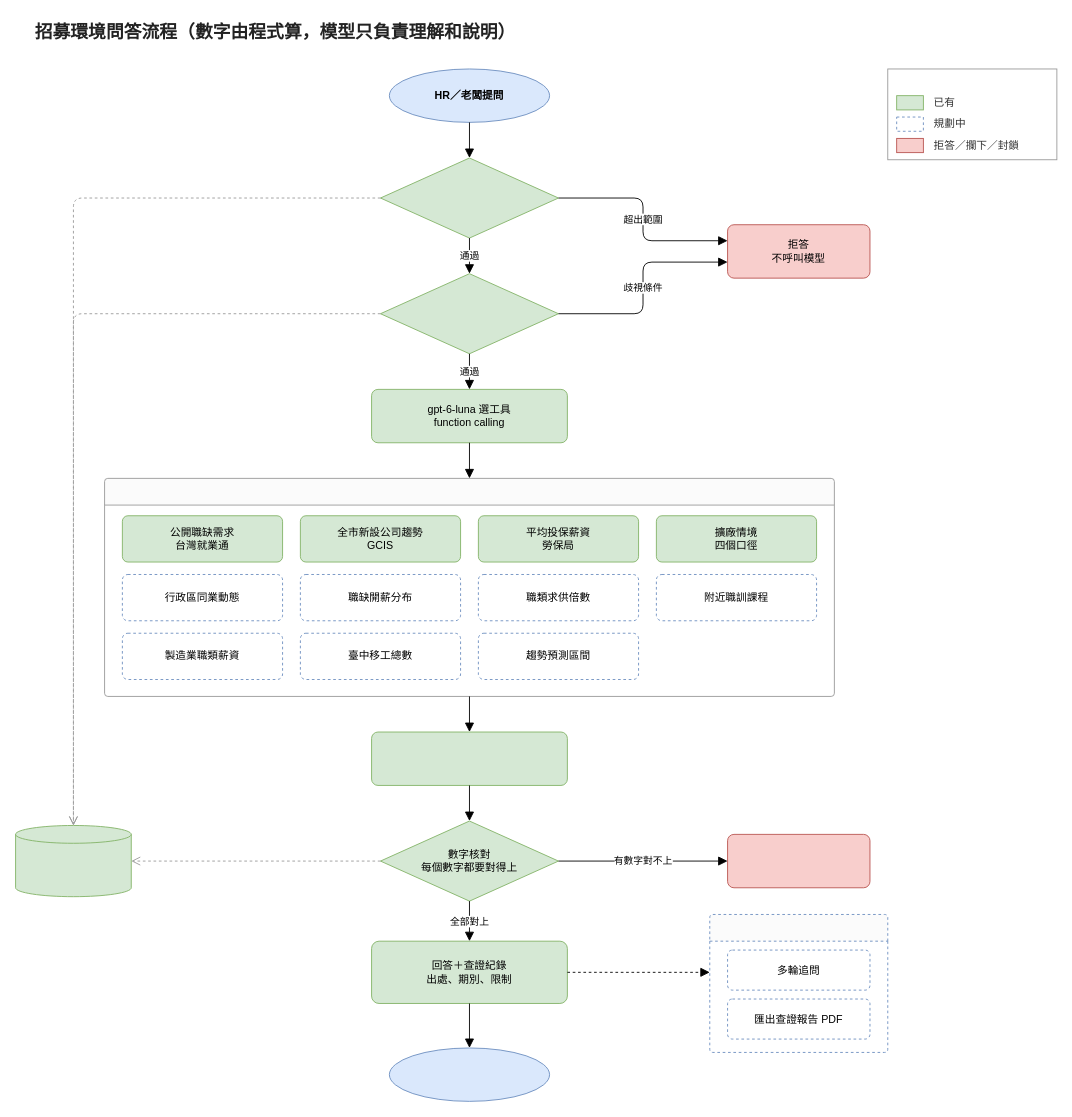
Some shapes in this 1072 by 1117 pixel diagram are drawn without their labels. Here are the shapes that lost their labels. From the top down, the box of each, then its label:
(887, 68, 1057, 160): 圖例
(380, 157, 558, 238): 範圍檢查 （規劃：改用 Jev）
(380, 273, 558, 354): 公平招募護欄
(104, 477, 834, 696): 資料工具（程式查官方資料，回傳數值＋期別＋出處＋限制）
(371, 731, 567, 785): gpt-6-luna 撰寫回答
(15, 825, 131, 897): 稽核紀錄 只存雜湊值
(727, 833, 870, 888): 整段攔下 不顯示模型說法
(709, 914, 888, 1052): 回答之後（規劃）
(388, 1047, 550, 1101): 顯示給使用者
